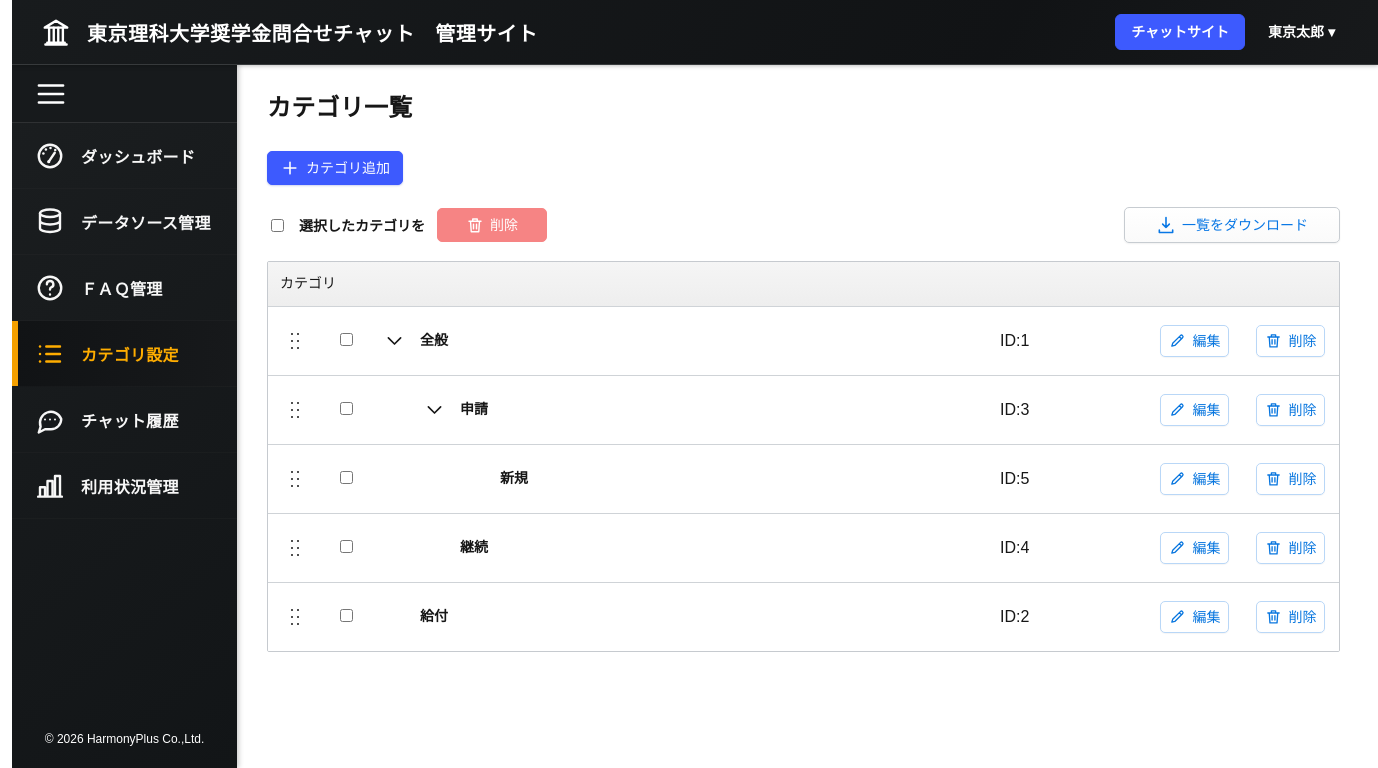
Test case: CB-213 categories › 展開・折り畳みを切り替える
Expected: the text "新規" is shown, [500,469,528,488]
What coordinates should you click on to do the following:
click the button named "全般を折り畳む"
I would click on:
 (394, 340)
Its box is [380,324,408,356].
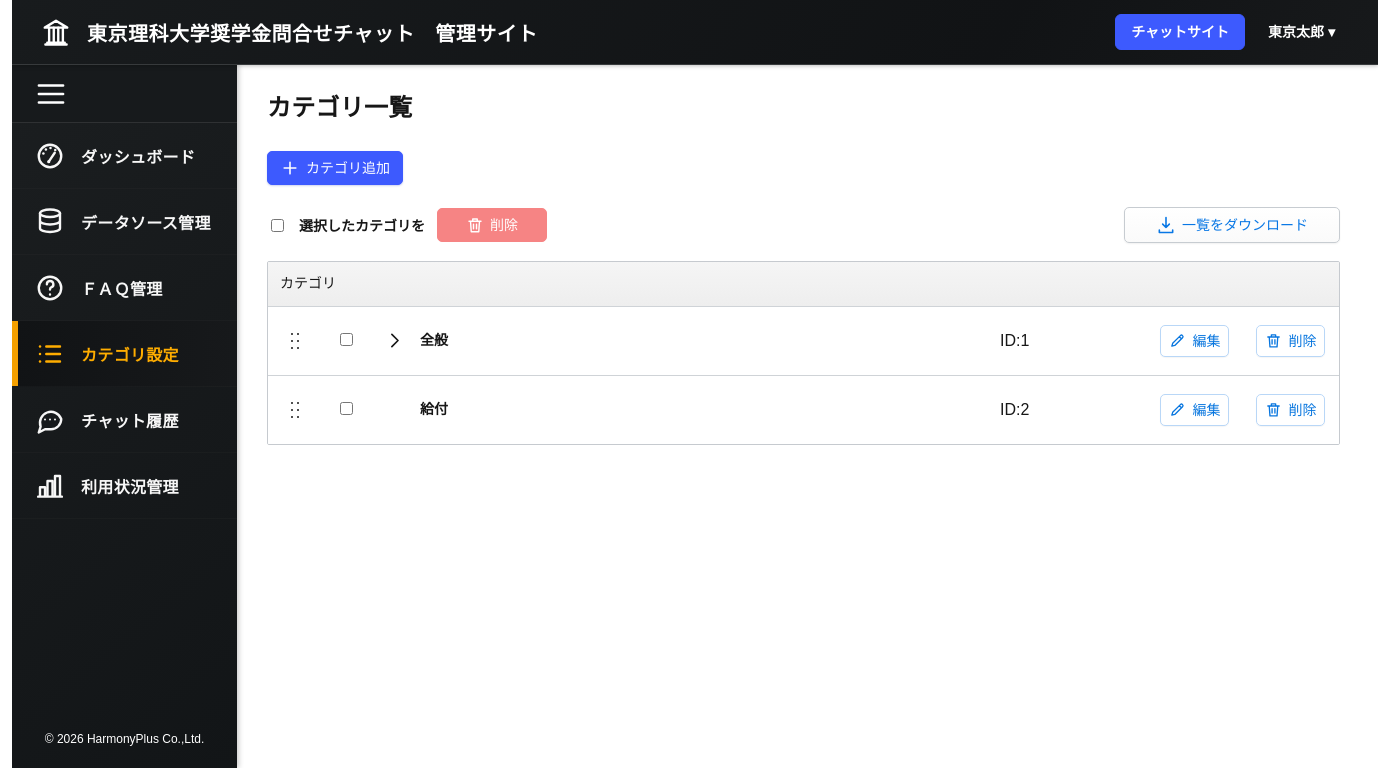
Result: the text "申請" is gone
What coordinates should you click on to do the following:
click the button named "全般を展開する"
I would click on:
 (394, 340)
Its box is [380,324,408,356].
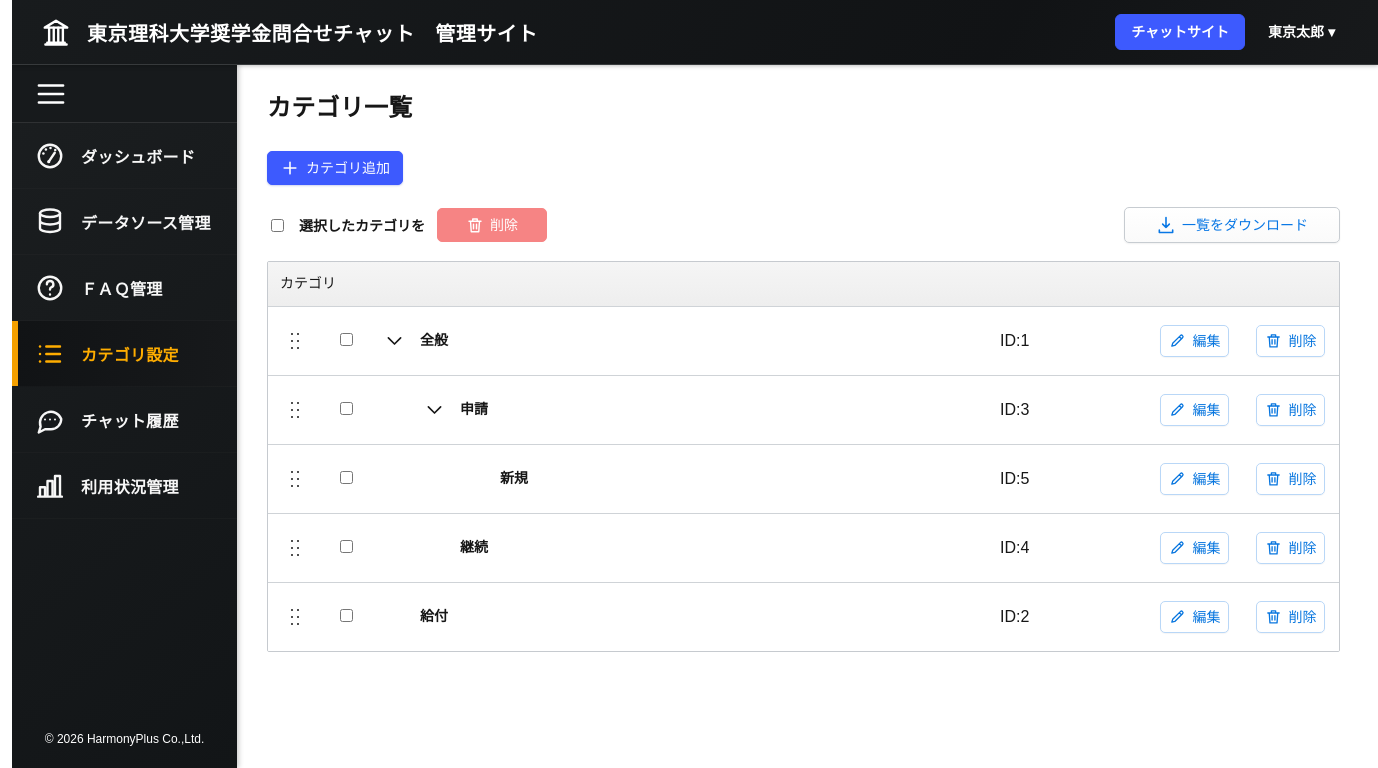
Result: the text "申請" is shown at [460,400,488,419]
